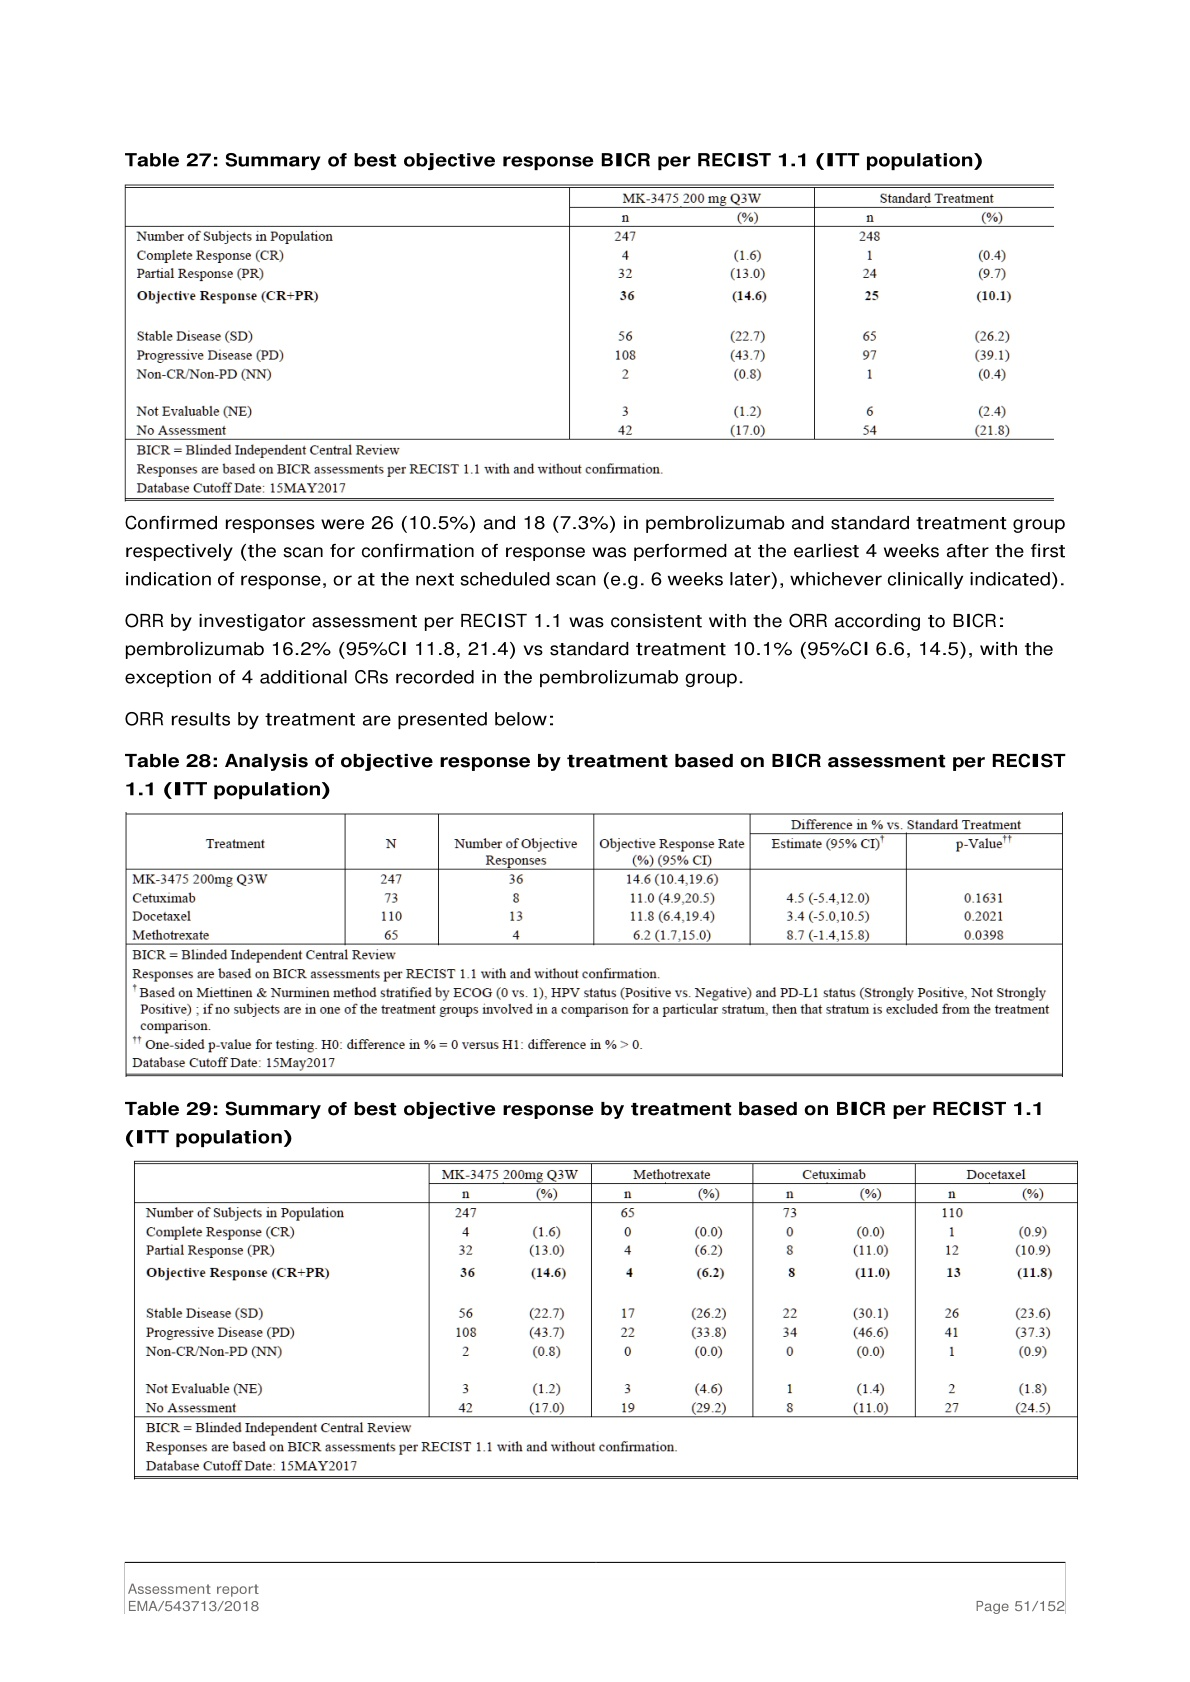partial_lined_merged_cells: (133, 1159, 1081, 1481), (124, 183, 1053, 502), (124, 811, 1064, 1077)
